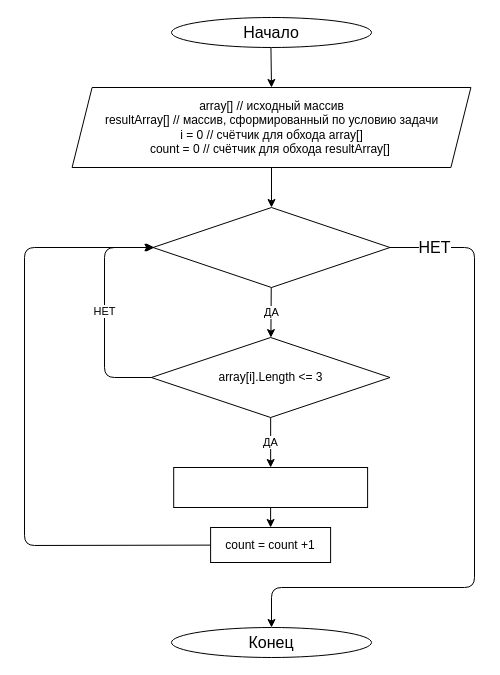
This 500x675 diagram has some shape labels left out. The centre of each missing label's shape, as x and y in pixels:
"i < array.Length" belongs at (x=271, y=247).
"resultArray[count] = array[i]" belongs at (x=270, y=487).
